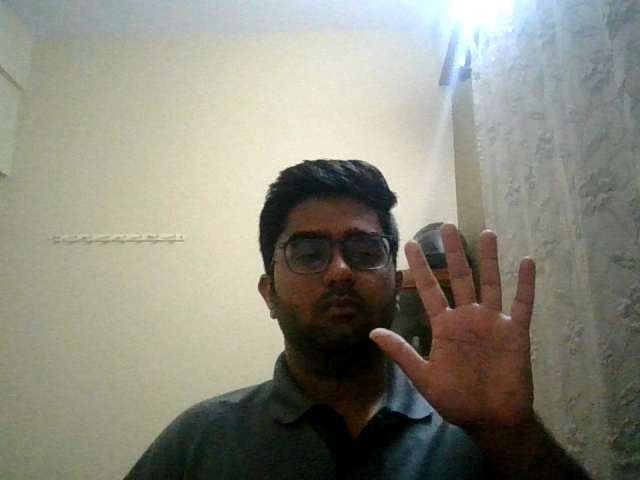Hello: (359, 205, 597, 463)
